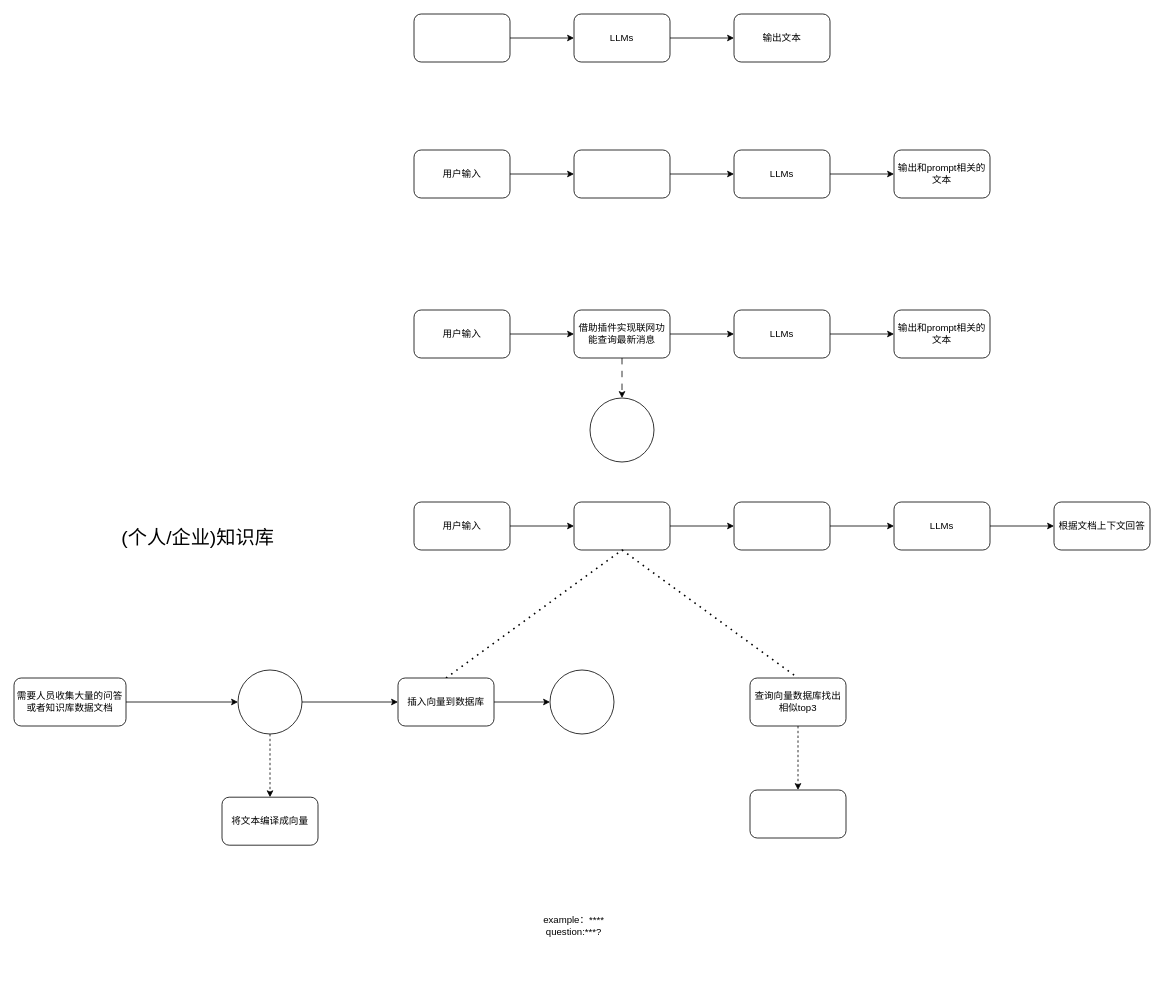
Some shapes in this 1164 by 996 pixel diagram are drawn without their labels. Each missing label, with the centre of its shape:
"embedding" goes at pixel 269 701.
"Milvus （根据需要使用即可）" goes at pixel 581 701.
"使用各种搜索引擎API获取最相似的结果" goes at pixel 621 429.
"可根据得分情况判断是否回答问题" goes at pixel 797 813.
"定义prompt格式，升华你说的语言或者问题" goes at pixel 621 173.
"将文档写入定义prompt格式中" goes at pixel 781 525.
"文档上下文" goes at pixel 621 525.
"用户输入 （正常说话）" goes at pixel 461 37.
